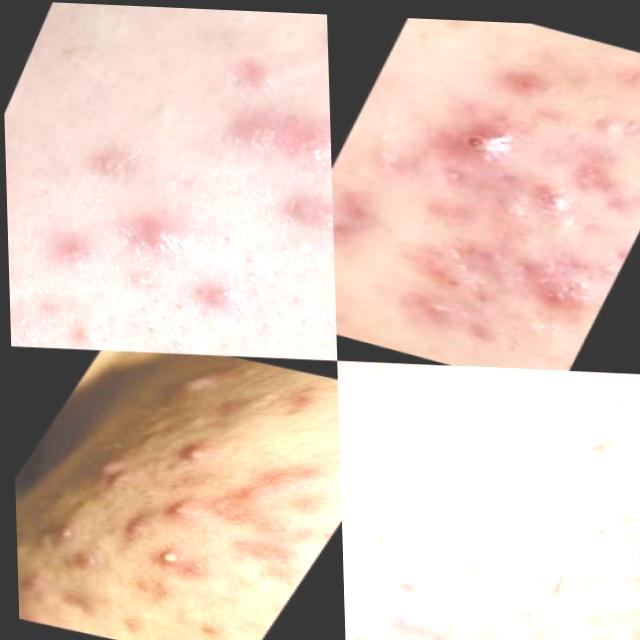8: (102, 207, 181, 276), (508, 258, 591, 320), (205, 47, 289, 107), (261, 183, 332, 250), (9, 227, 98, 280), (178, 277, 256, 322), (400, 290, 466, 333), (159, 435, 225, 471), (523, 174, 580, 210), (389, 603, 440, 640), (60, 549, 106, 575)
9: (143, 492, 211, 528), (135, 543, 194, 576), (39, 523, 82, 545)
blackheads: (208, 93, 330, 181), (330, 173, 406, 251), (281, 12, 327, 68)
dark spot: (517, 417, 572, 456), (502, 474, 550, 507), (455, 474, 500, 507), (350, 524, 397, 555), (610, 405, 640, 441), (398, 525, 434, 555), (480, 625, 530, 640), (625, 577, 640, 602)
pustules: (416, 99, 522, 169), (65, 443, 152, 503), (150, 365, 226, 402)
